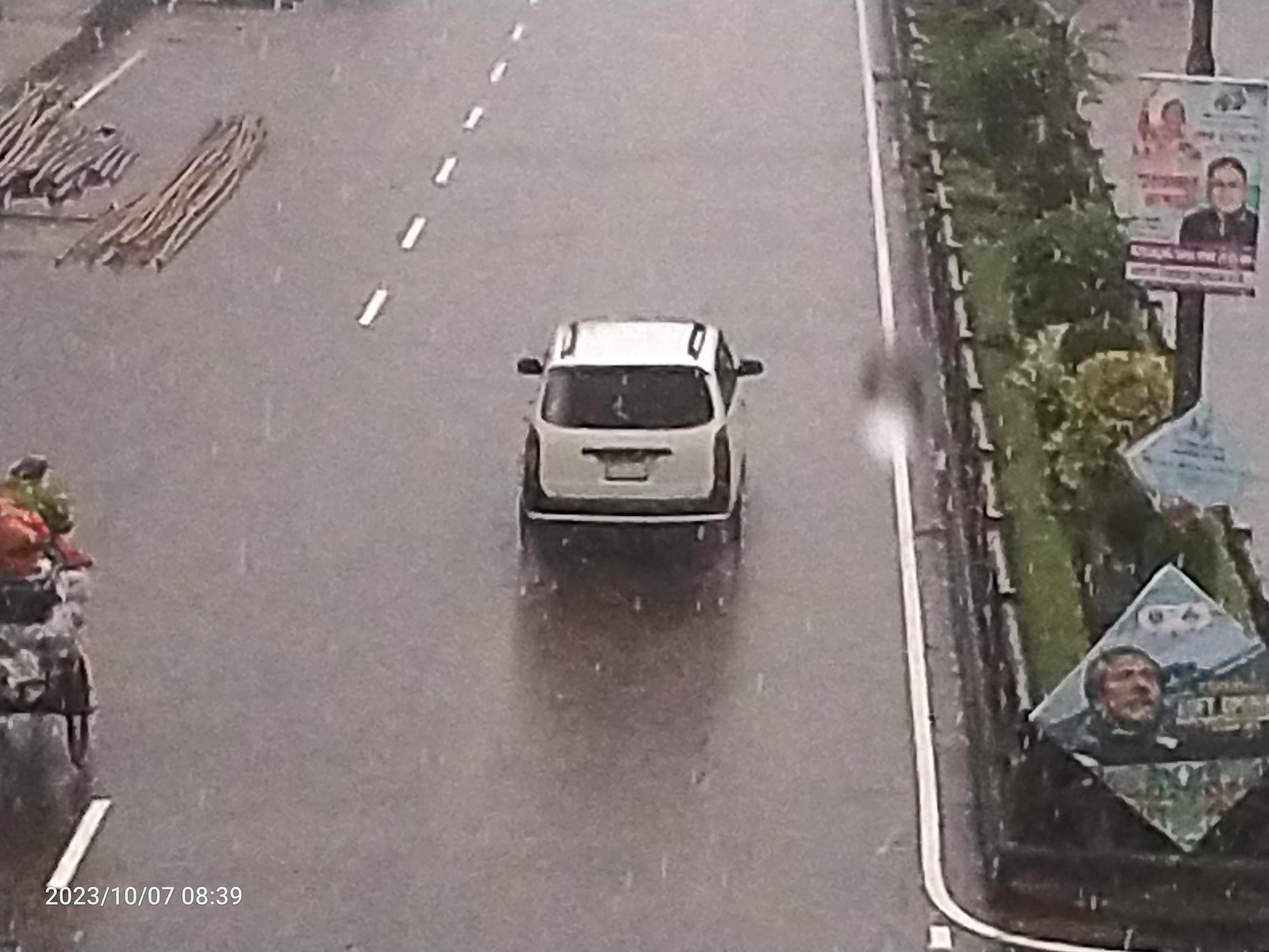Car: (431, 267, 781, 616), (0, 448, 154, 802)
